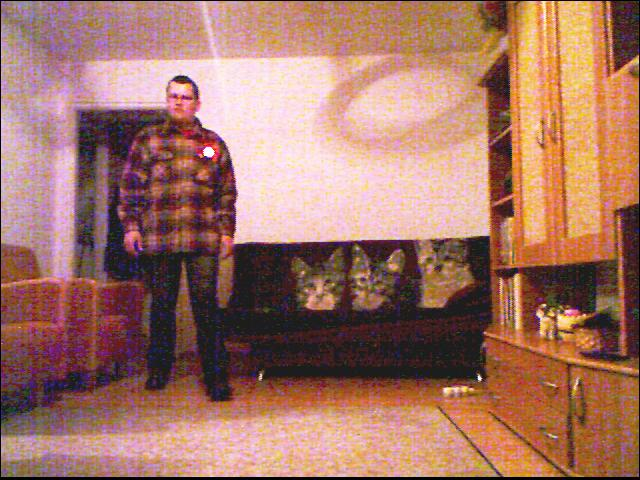walking: (106, 65, 238, 407)
